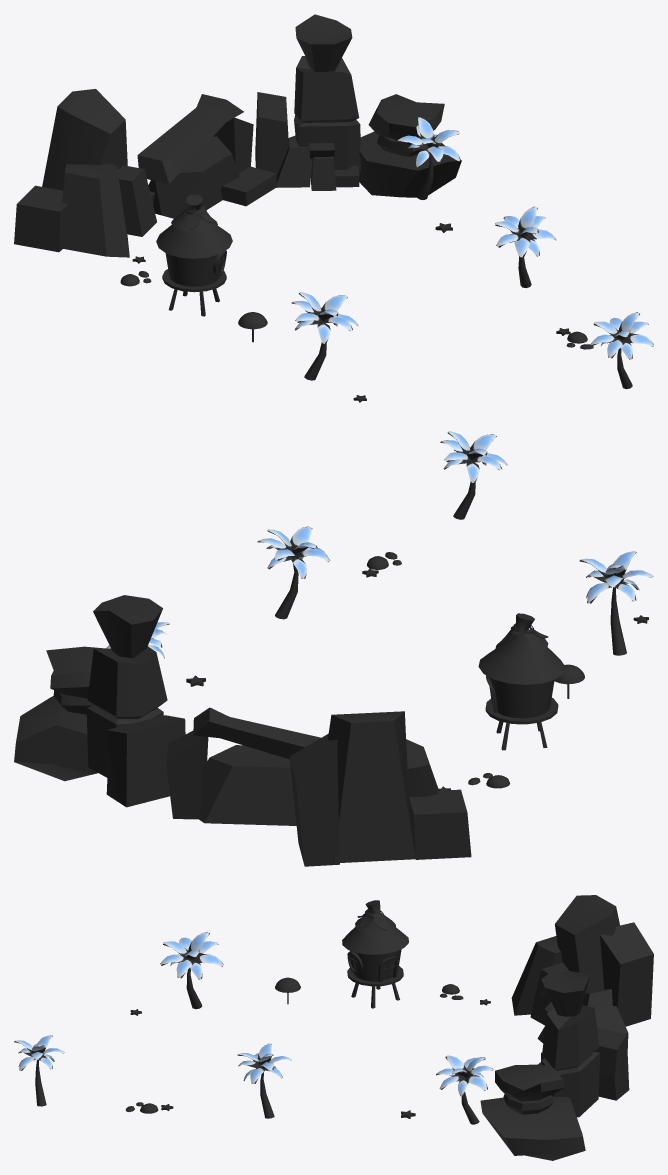
Rendered from environment (1).fbx.
3 views of the same model, one above another, from view 1: azimuth 30°, elevation 25°; view 2: azimuth 150°, elevation 25°; view 3: azimuth 270°, elevation 25° (orthographic). The views are drawn at different scales.
Visible parts, largest first — view 1: mounts, Cylinder__3_.003, Cylinder_001__5_.001, Cylinder_001__5_.002, Cylinder_001__5_.004, Cylinder_001__5_.003; view 2: mounts, Cylinder__3_.003, Cylinder_001__5_.001, Cylinder_001__5_.004, Cylinder_001__5_.002; view 3: mounts, Cylinder__3_.003, Cylinder_001__5_.001, Cylinder_001__5_.003, Cylinder_001__5_.004, Cylinder_001__5_.002.
Boxes of the visible parts, left/top/right/bottom form: mounts: left=14, top=14, right=461, bottom=257; Cylinder__3_.003: left=156, top=194, right=232, bottom=316; Cylinder_001__5_.001: left=291, top=292, right=358, bottom=380; Cylinder_001__5_.002: left=591, top=312, right=653, bottom=389; Cylinder_001__5_.004: left=495, top=206, right=556, bottom=288; Cylinder_001__5_.003: left=398, top=117, right=460, bottom=199; mounts: left=14, top=595, right=471, bottom=866; Cylinder__3_.003: left=478, top=613, right=565, bottom=750; Cylinder_001__5_.001: left=579, top=551, right=653, bottom=655; Cylinder_001__5_.004: left=257, top=526, right=330, bottom=619; Cylinder_001__5_.002: left=440, top=431, right=507, bottom=519; mounts: left=480, top=895, right=653, bottom=1160; Cylinder__3_.003: left=342, top=900, right=408, bottom=1008; Cylinder_001__5_.001: left=160, top=932, right=223, bottom=1009; Cylinder_001__5_.003: left=436, top=1055, right=493, bottom=1124; Cylinder_001__5_.004: left=237, top=1043, right=291, bottom=1118; Cylinder_001__5_.002: left=14, top=1035, right=64, bottom=1106.
Size of the model in its own units: 4.96 by 2.07 by 7.55.
